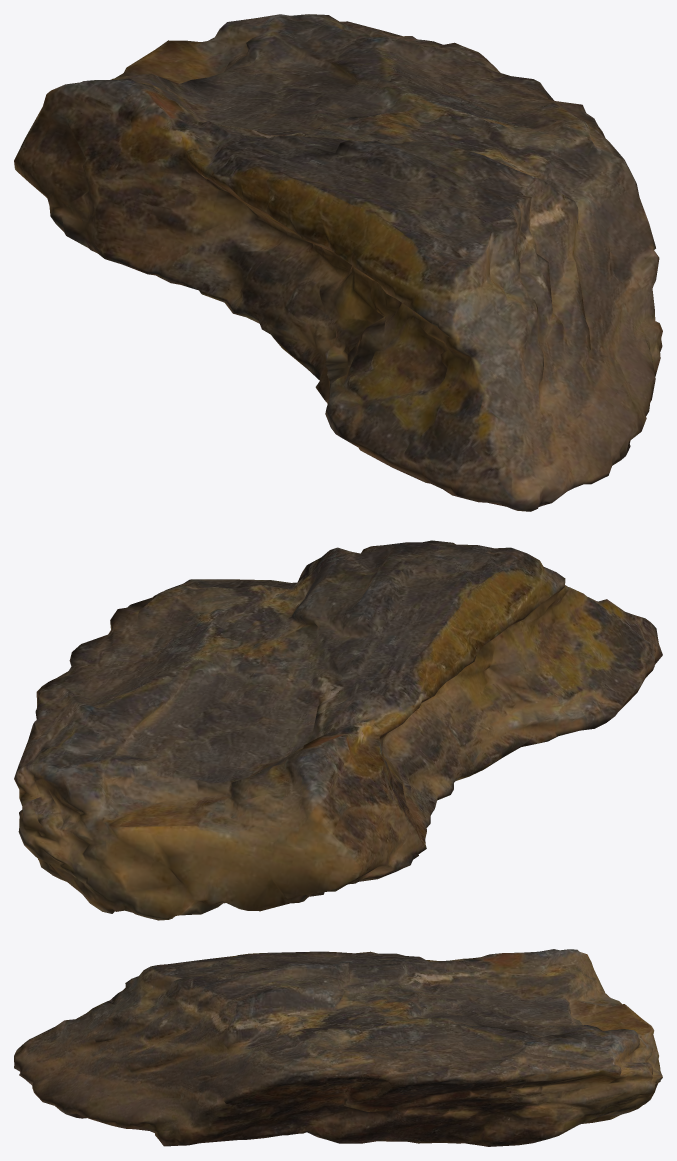
Rendered from rock2.glb.
3 renders of one model, top to bottom at view 1: azimuth 30°, elevation 25°; view 2: azimuth 150°, elevation 25°; view 3: azimuth 270°, elevation 25°, orthographic. The views are drawn at different scales.
Visible parts, largest first — view 1: rock_09_LOD0; view 2: rock_09_LOD0; view 3: rock_09_LOD0.
Part boxes in pixels (x1,y1,x2,y2): rock_09_LOD0: (14,14,662,511); rock_09_LOD0: (14,540,662,920); rock_09_LOD0: (14,949,662,1146).
Size of the model in its own units: 0.074 by 0.0328 by 0.1446.
Materials: 1 (1 with a texture image).
